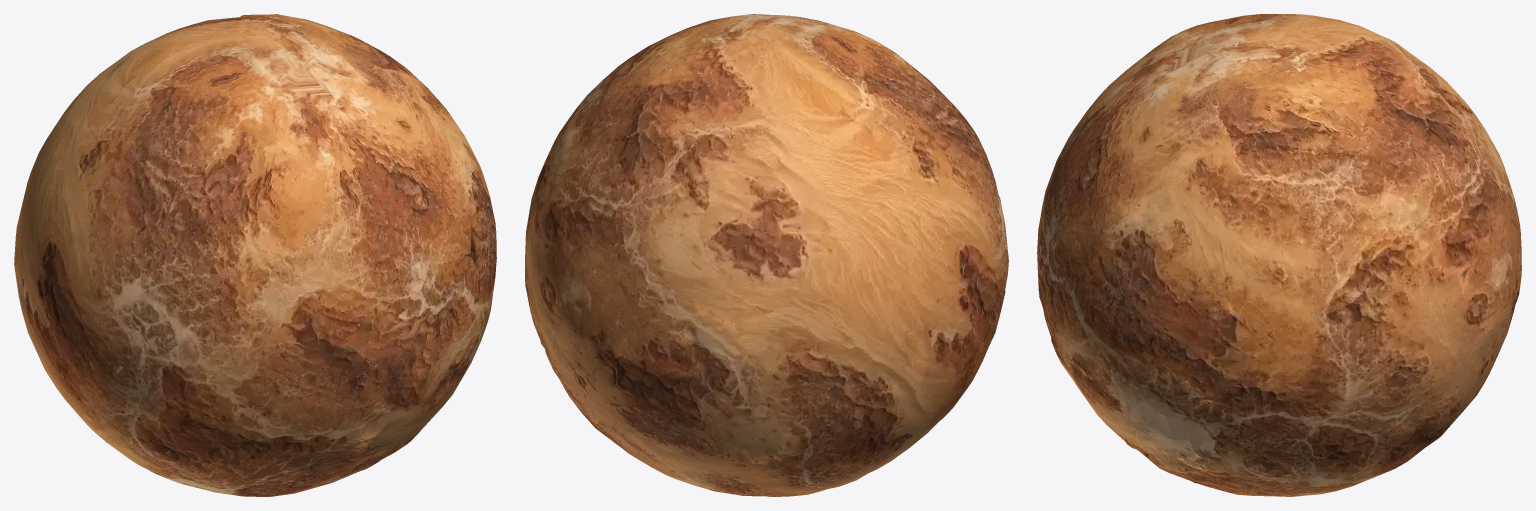
The model's file is planet_4.glb.
The picture shows the model from 3 angles, left to right: view 1: azimuth 30°, elevation 25°; view 2: azimuth 150°, elevation 25°; view 3: azimuth 270°, elevation 25°; orthographic projection.
Visible parts, largest first — view 1: Mesh_0.001; view 2: Mesh_0.001; view 3: Mesh_0.001.
Boxes of the visible parts, x1,y1,x2,y2 form: Mesh_0.001: (14, 14, 496, 496); Mesh_0.001: (525, 14, 1008, 496); Mesh_0.001: (1037, 14, 1521, 496).
Size of the model in its own units: 1.9 by 1.9 by 1.9.
Materials: 1 (1 with a texture image).
